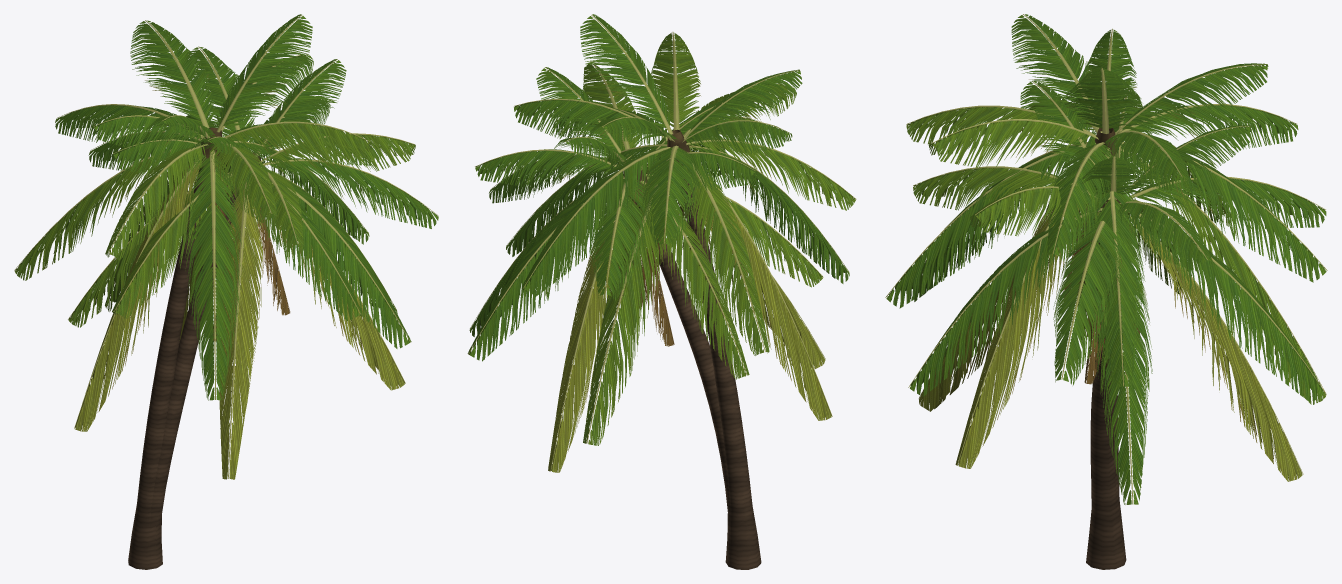
The model's file is LM_TREE_CoconutPalm.glb.
3 renders of one model, left to right at view 1: azimuth 30°, elevation 25°; view 2: azimuth 150°, elevation 25°; view 3: azimuth 270°, elevation 25°, orthographic. The views are drawn at different scales.
Visible parts, largest first — view 1: LM_TREE_CoconutPalm_A, LM_TREE_CoconutPalm_B; view 2: LM_TREE_CoconutPalm_A, LM_TREE_CoconutPalm_B; view 3: LM_TREE_CoconutPalm_B, LM_TREE_CoconutPalm_A.
Part boxes in pixels (<box>): LM_TREE_CoconutPalm_A: <box>14,14,405,569</box>; LM_TREE_CoconutPalm_B: <box>68,46,438,569</box>; LM_TREE_CoconutPalm_A: <box>506,14,856,569</box>; LM_TREE_CoconutPalm_B: <box>467,64,825,563</box>; LM_TREE_CoconutPalm_B: <box>908,81,1326,568</box>; LM_TREE_CoconutPalm_A: <box>885,14,1327,569</box>.
Bounding box in the file's own units: 7.26 × 10.01 × 6.93.
2 materials, 2 textured.
